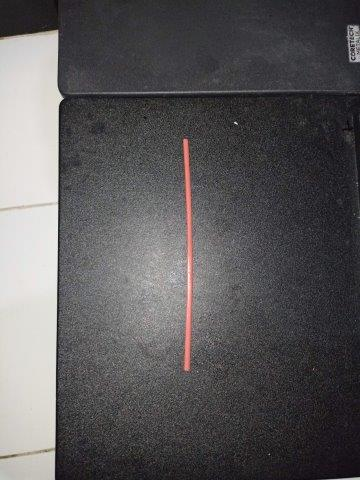sedotan: (183, 138, 192, 370)
